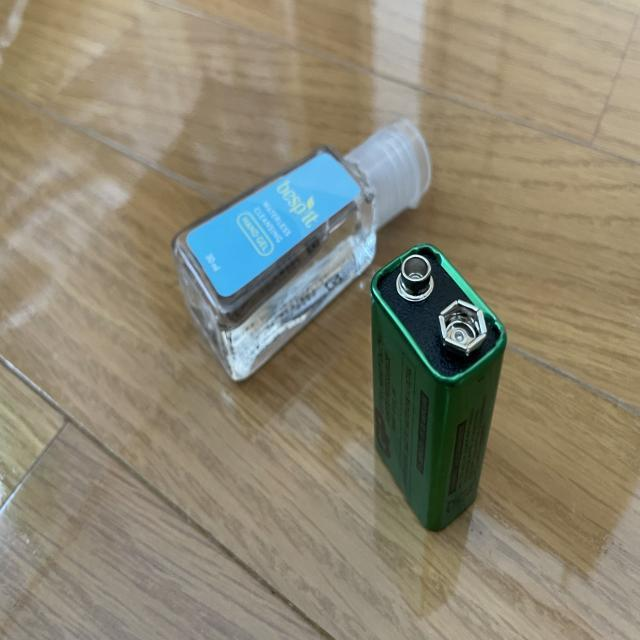9V: (370, 244, 507, 532)
